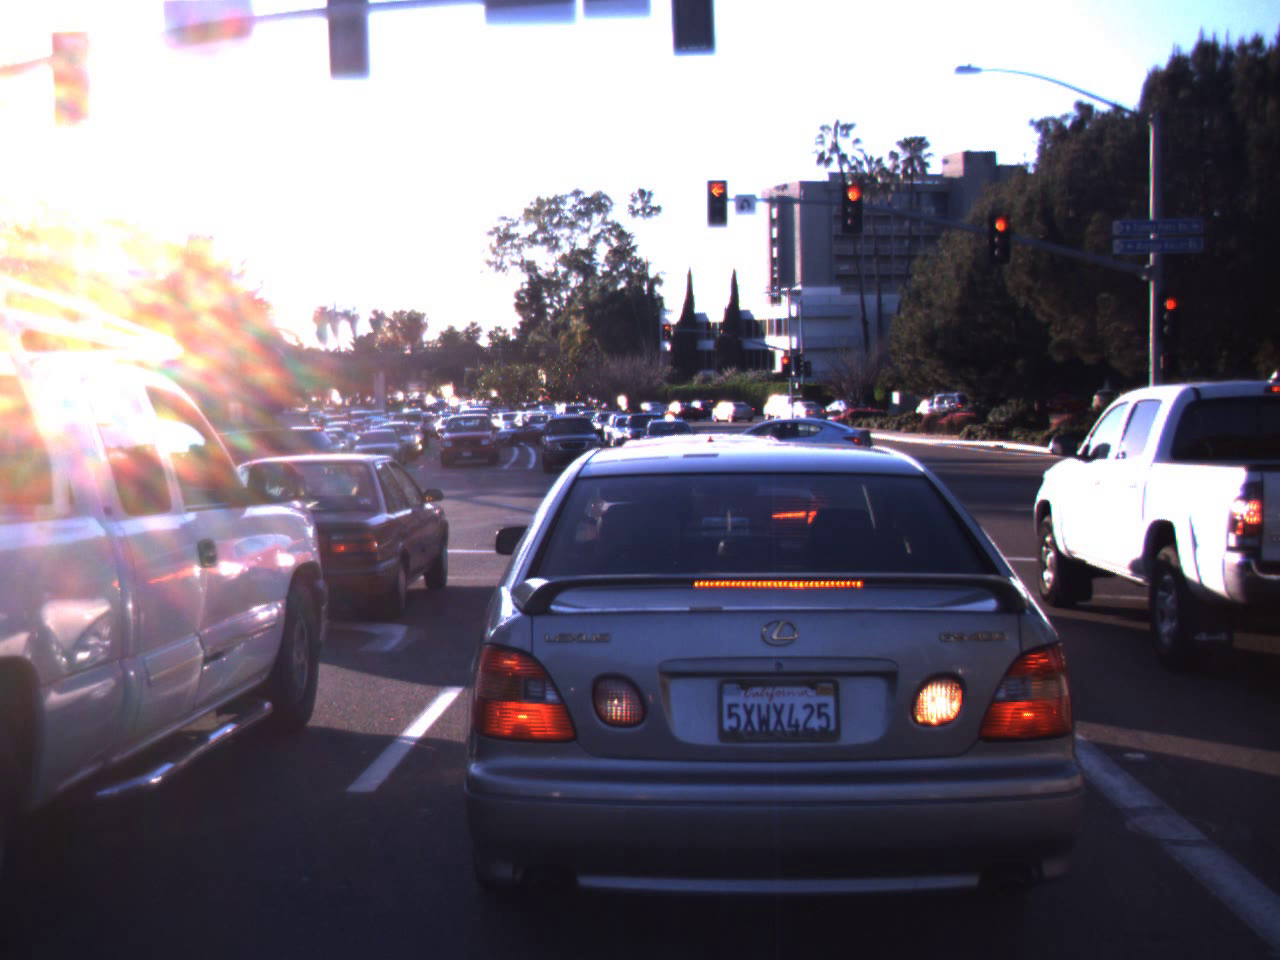Traffic_Light_stop: (992, 210, 1011, 264), (843, 185, 862, 234), (708, 179, 728, 226), (1162, 286, 1176, 328)
